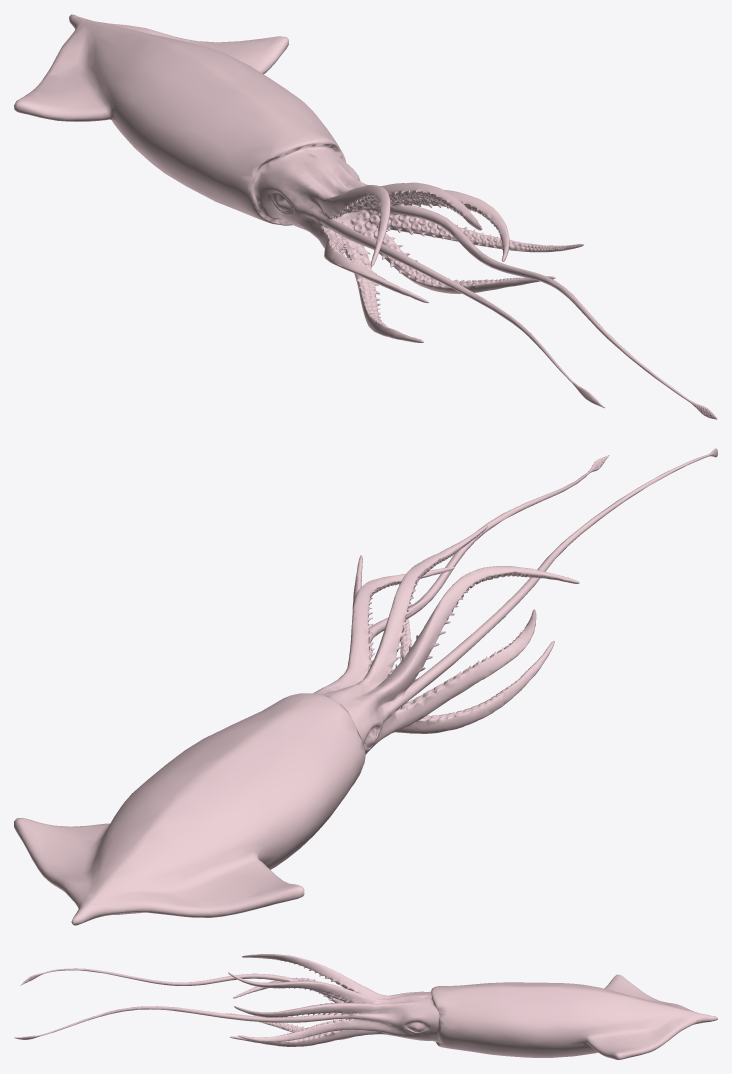
File: Squid04.fbx
3 renders of one model, top to bottom at view 1: azimuth 30°, elevation 25°; view 2: azimuth 150°, elevation 25°; view 3: azimuth 270°, elevation 25°, orthographic. The views are drawn at different scales.
Visible parts, largest first — view 1: Cylinder.001; view 2: Cylinder.001; view 3: Cylinder.001.
Boxes of the visible parts, box(x1,y1,x2,y2) form: Cylinder.001: box(14, 14, 717, 419); Cylinder.001: box(14, 448, 717, 925); Cylinder.001: box(14, 954, 717, 1059).
Bounding box in the file's own units: 530 × 267 × 1932.
